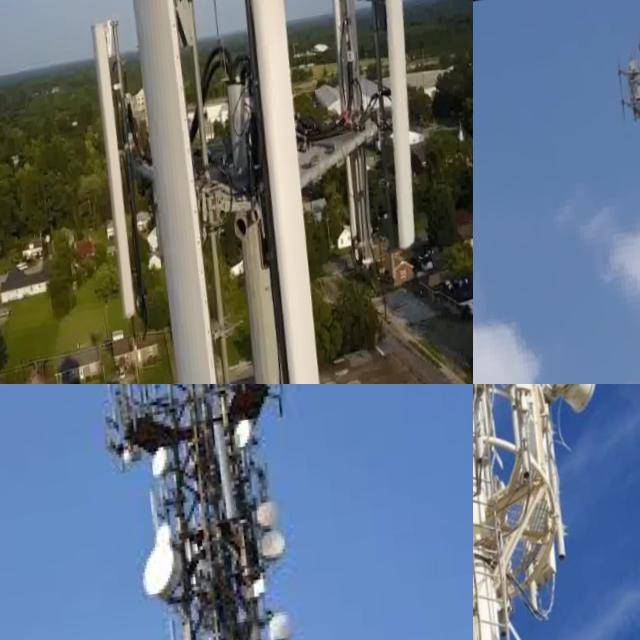GSM Antenna: (107, 0, 250, 384), (226, 0, 352, 384), (82, 5, 156, 339), (359, 0, 442, 262), (325, 0, 392, 276), (207, 417, 249, 530)
Microwave Antenna: (133, 542, 195, 616), (551, 384, 605, 430), (230, 411, 262, 462), (257, 531, 293, 576), (142, 448, 176, 491), (151, 517, 187, 553), (254, 495, 288, 533), (269, 611, 303, 640), (117, 448, 139, 474)
